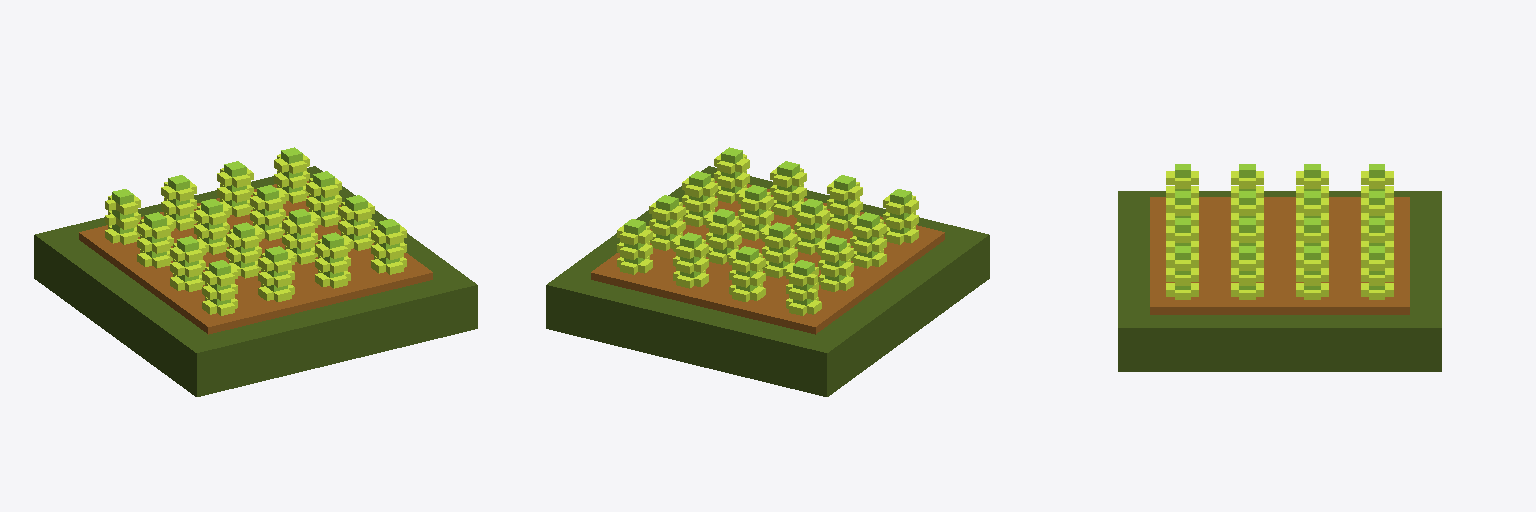
3 views of the same model, side by side, from view 1: azimuth 30°, elevation 25°; view 2: azimuth 150°, elevation 25°; view 3: azimuth 270°, elevation 25° (orthographic).
Parts seen in each view (by area): view 1: object 1; view 2: object 1; view 3: object 1.
Part boxes in pixels (bbox=[...]): object 1: bbox=[34, 147, 477, 396]; object 1: bbox=[546, 147, 989, 396]; object 1: bbox=[1118, 164, 1441, 371].
Bounding box in the file's own units: 4 × 1.3 × 4.
1 materials, 1 textured.